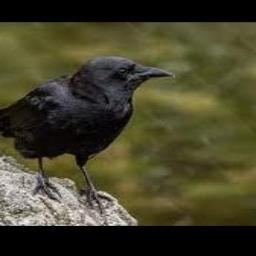Crow: (0, 56, 175, 211)
